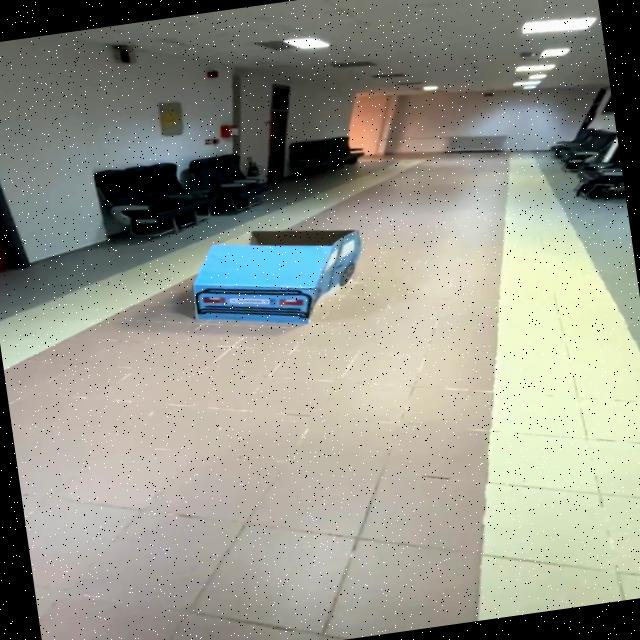blue_car: (145, 208, 413, 349)
